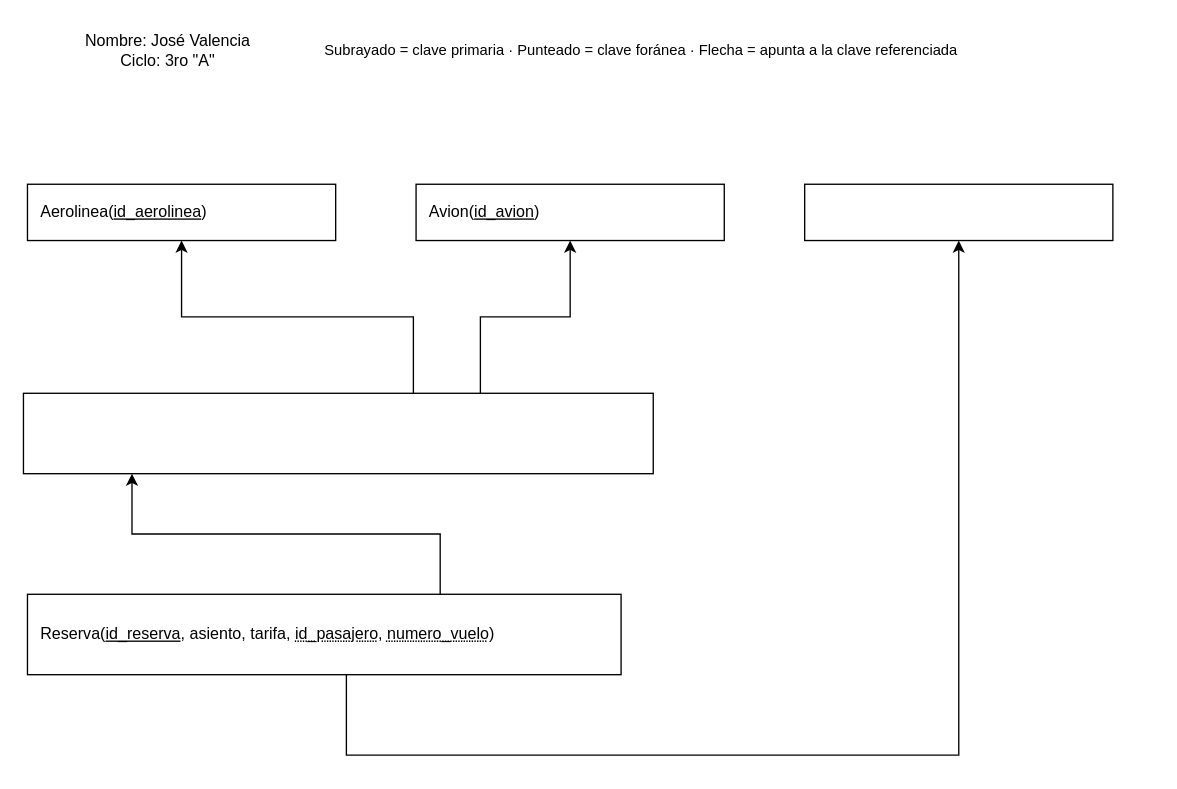
Some shapes in this 1177 by 789 pixel diagram are drawn without their labels. The shapes that lost their labels are listed below. From the top down, each one's centre as x and y in pixels, then its label:
At (x=958, y=212): "Pasajero( id_pasajero )".
At (x=337, y=433): "Vuelo( numero_vuelo , fecha, origen, destino, id_aerolinea , id_avion )".
